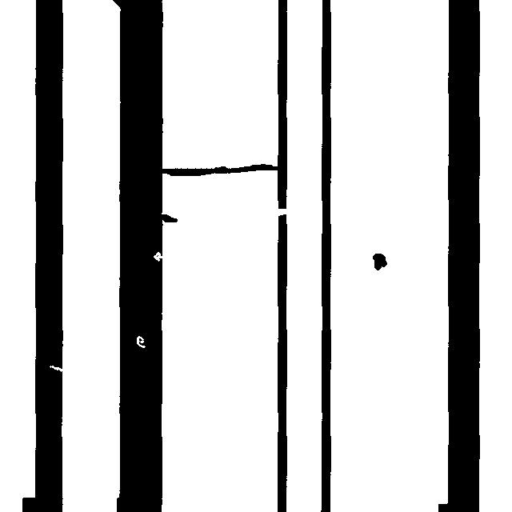copper: (365, 246, 394, 278)
mousebite: (146, 244, 172, 269), (42, 358, 70, 379)
open: (268, 201, 298, 223)
pin-hole: (129, 328, 153, 355)
short: (150, 156, 289, 183)
spur: (150, 206, 185, 230)
